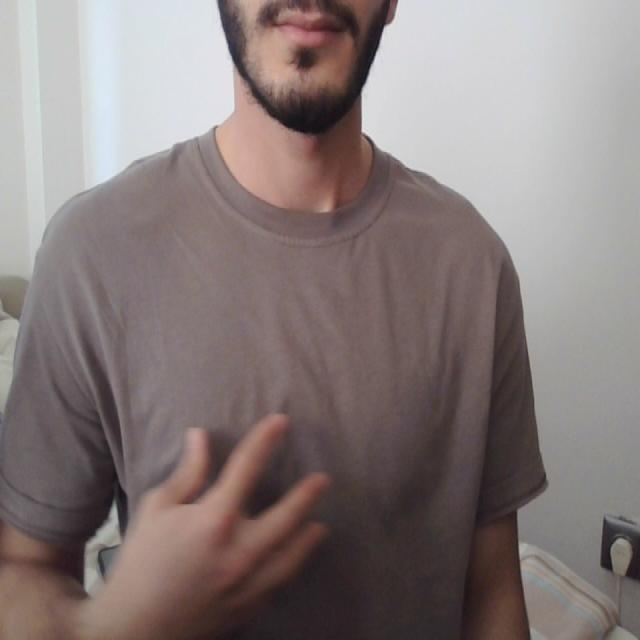Anne: (94, 399, 472, 640)
